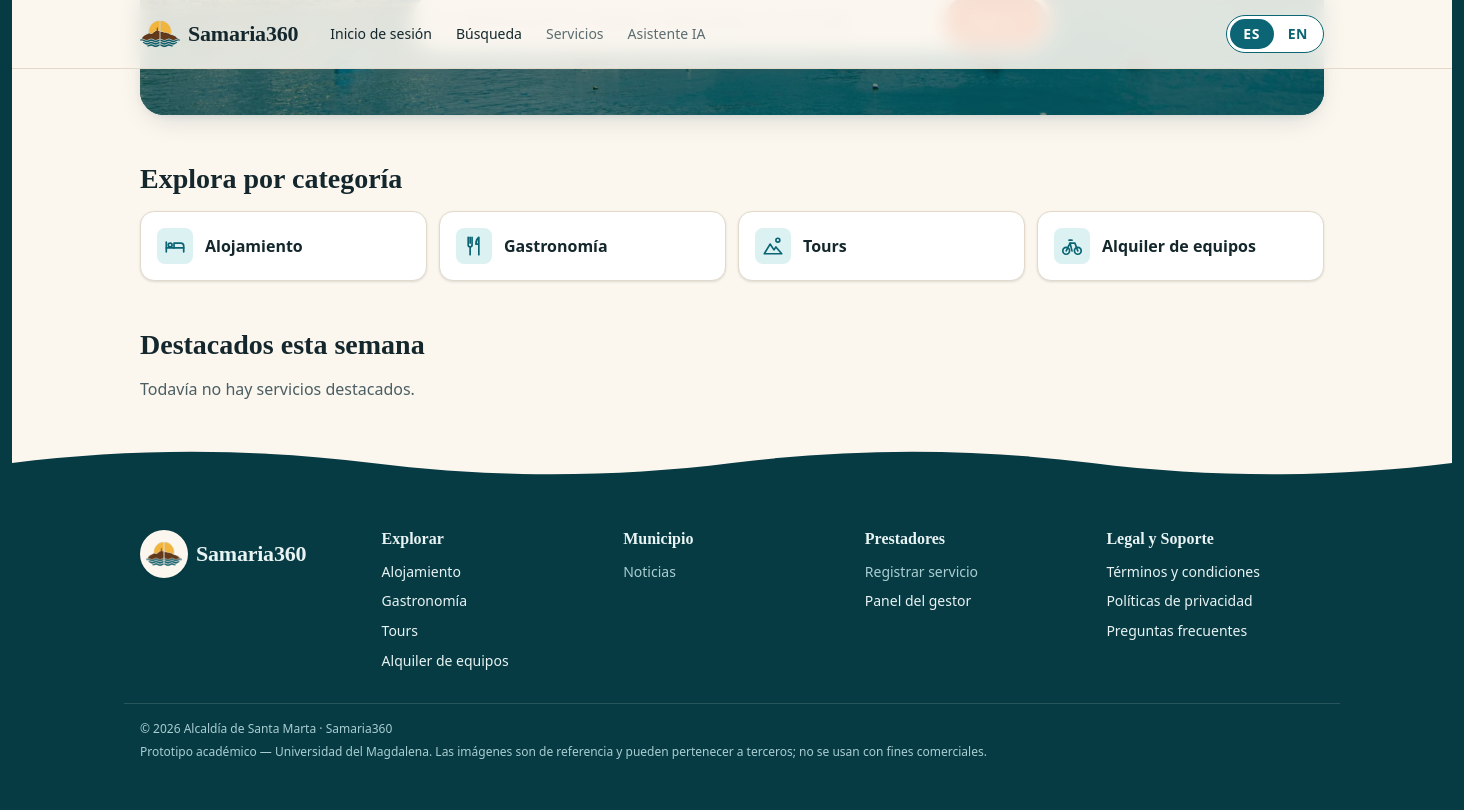
Scenario: WF-13, sección pública de preguntas frecuentes (RF26) › se llega desde el pie y muestra todas las preguntas en el orden del servidor, cerradas
(page scrolled)
Click the link "Preguntas frecuentes" at (1177, 630), box [1106,621,1247,640]
(page scrolled)
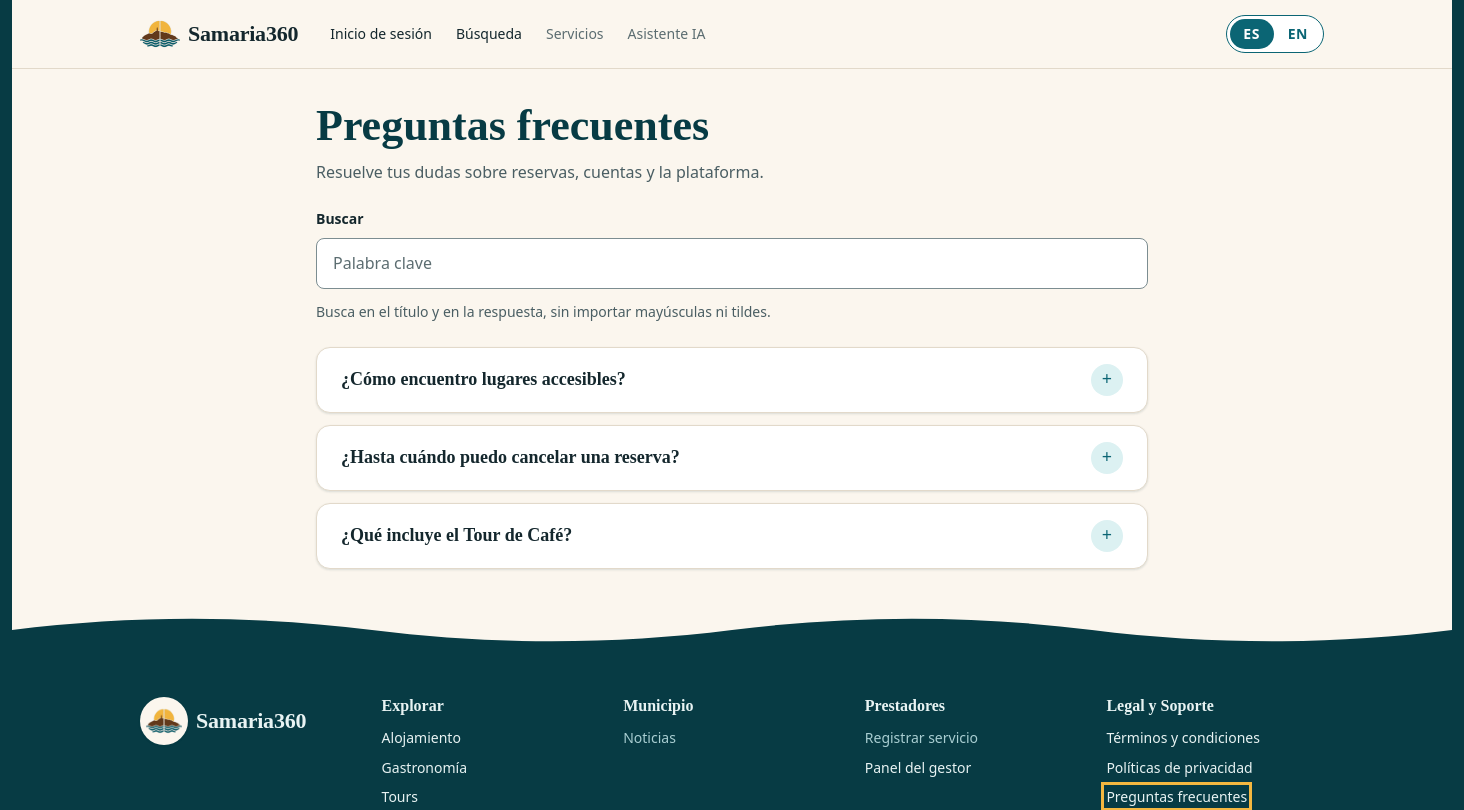
Now the heading "Preguntas frecuentes" is shown, box [316,101,709,150]
